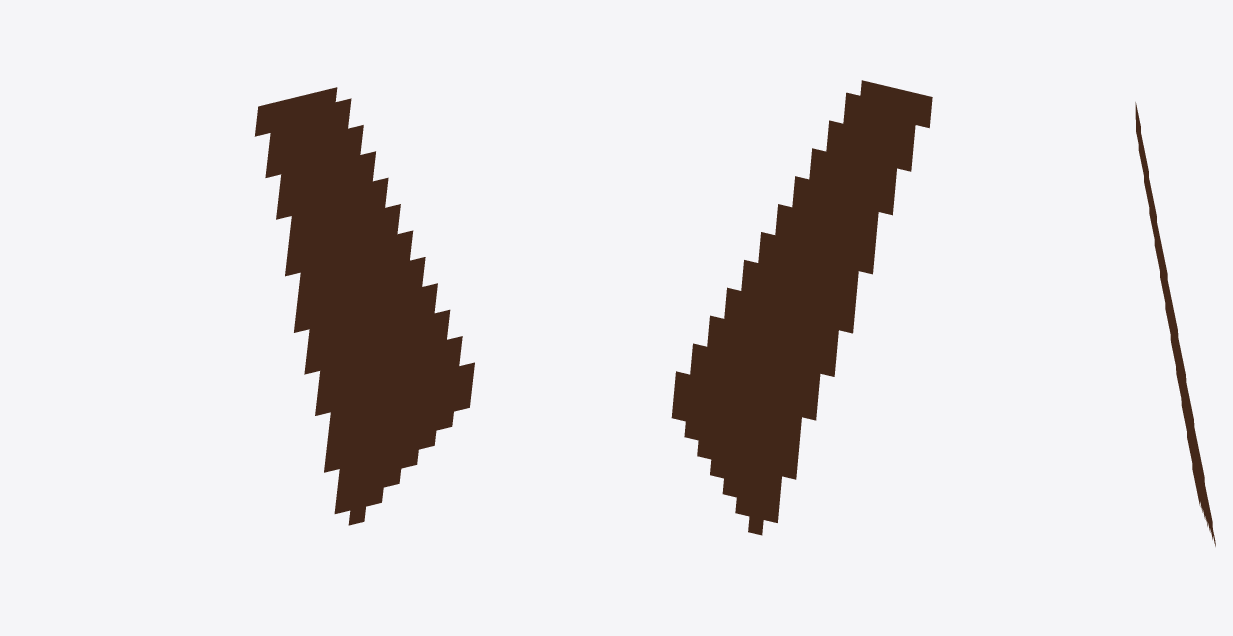
File: eyebrow1.glb
The picture shows the model from 3 angles, left to right: view 1: azimuth 30°, elevation 25°; view 2: azimuth 150°, elevation 25°; view 3: azimuth 270°, elevation 25°; orthographic projection. The views are drawn at different scales.
Visible parts, largest first — view 1: tomodachi-2026-03-13-22-18-17-009.001; view 2: tomodachi-2026-03-13-22-18-17-009.001; view 3: tomodachi-2026-03-13-22-18-17-009.001.
Part boxes in pixels (box(x1,y1,x2,y2)): tomodachi-2026-03-13-22-18-17-009.001: box(254, 87, 474, 525); tomodachi-2026-03-13-22-18-17-009.001: box(671, 80, 932, 535); tomodachi-2026-03-13-22-18-17-009.001: box(1135, 102, 1215, 546).
Bounding box in the file's own units: 0.3638 × 0.3572 × 0.0681.
1 material, 1 textured.
